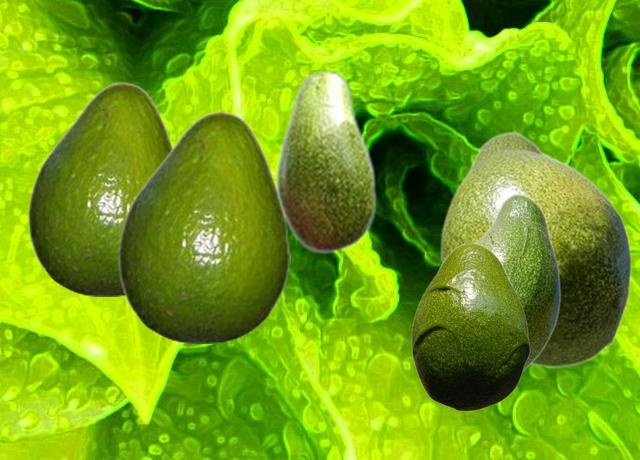avocado: (439, 131, 631, 368), (117, 110, 289, 342), (27, 81, 174, 295), (411, 242, 529, 410), (275, 68, 376, 254), (474, 193, 560, 370)
